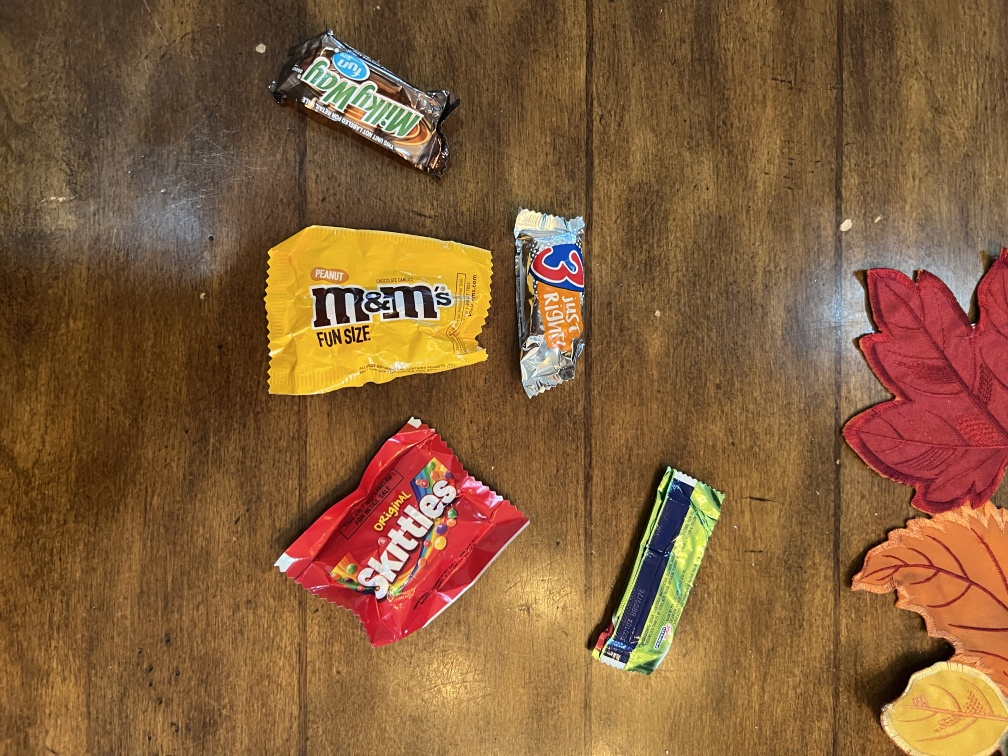MMs_regular: (244, 212, 504, 405)
airheads: (619, 430, 739, 697)
milky_way: (253, 21, 471, 190)
skittles: (258, 424, 530, 658)
three_musketeers: (504, 191, 605, 403)
